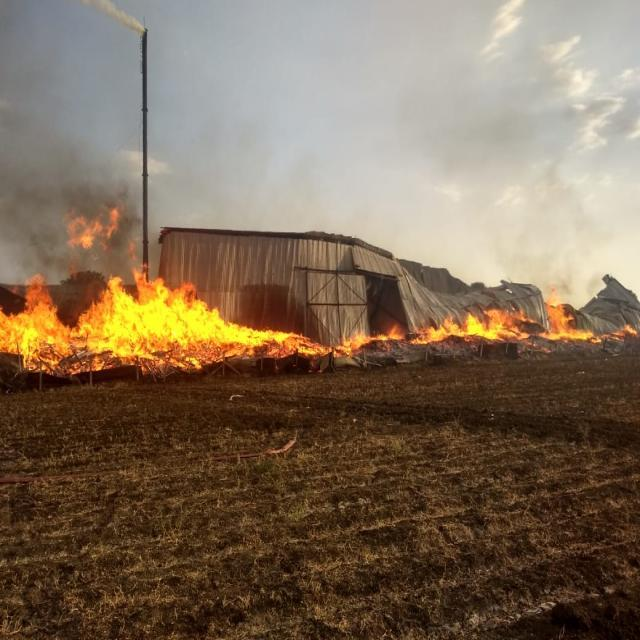Fire: (0, 269, 640, 381)
Smoke: (0, 116, 145, 264)
